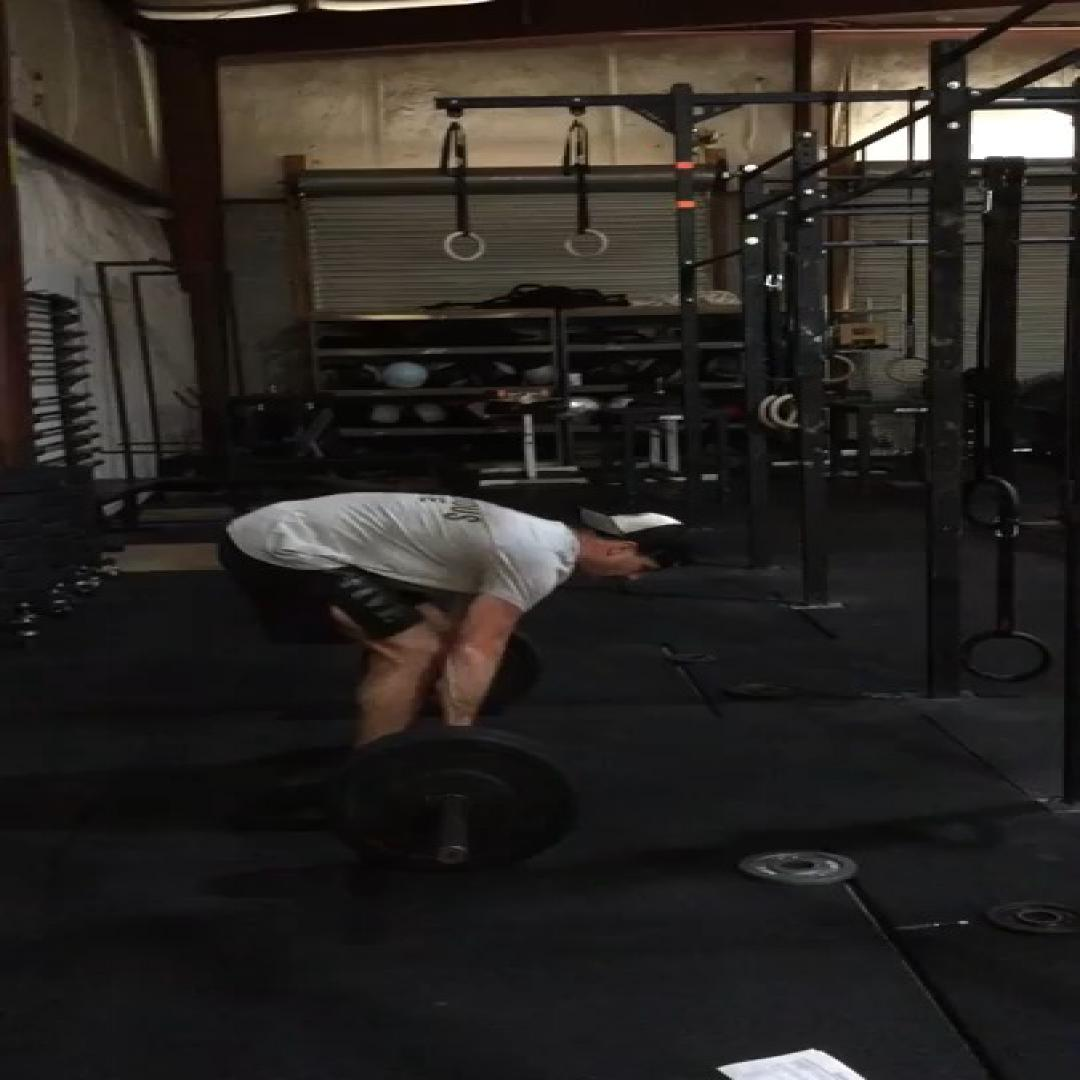Bar: (434, 846, 470, 864)
Barbell: (322, 736, 582, 874)
